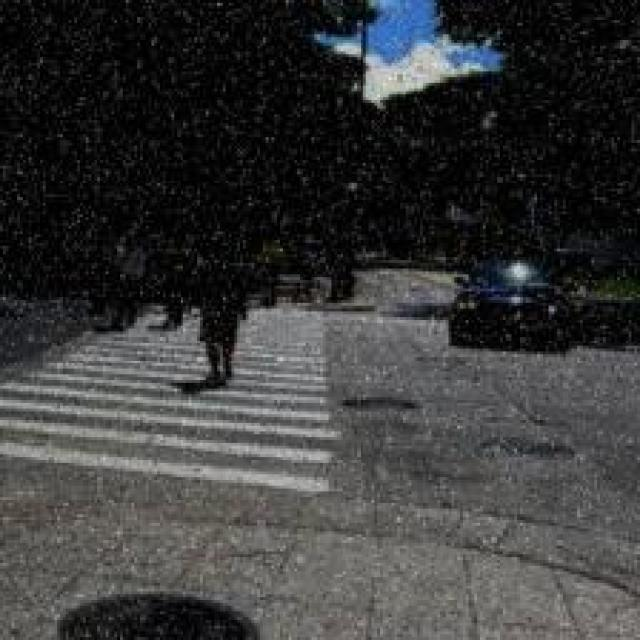crosswalk: (0, 305, 348, 501)
